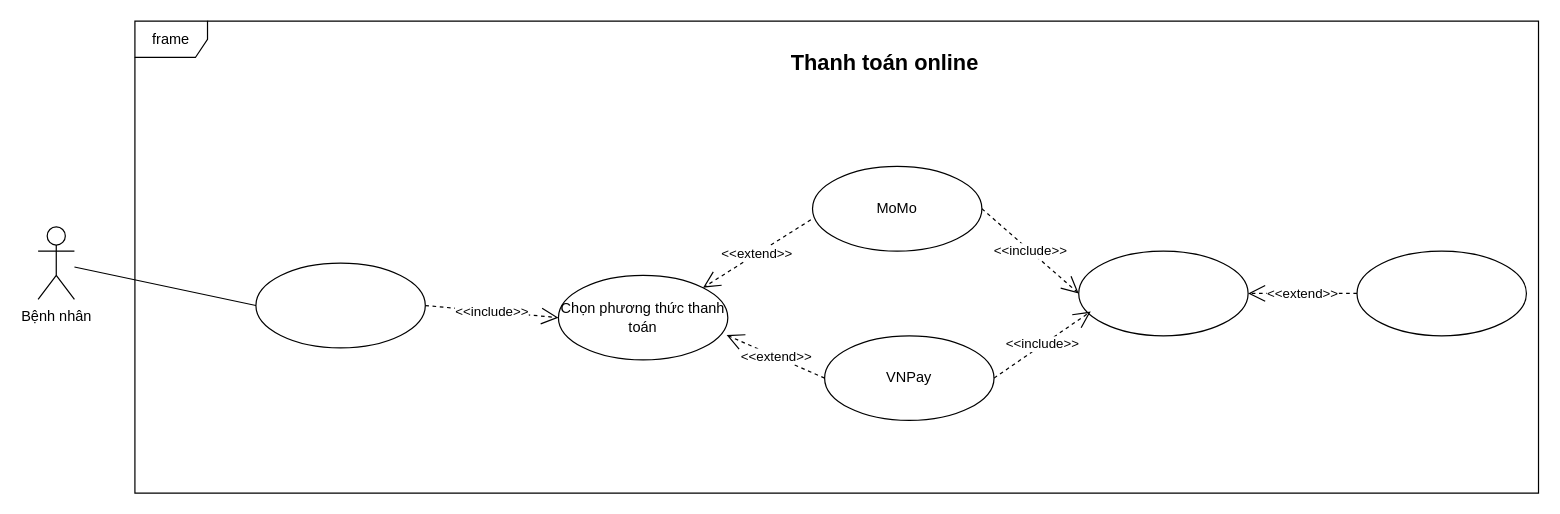
Some shapes in this 1560 by 514 pixel diagram are drawn without their labels. The shapes that lost their labels are listed below. From the top down, each one's centre as x and y in pixels, then its label:
At point (340, 305): "Chọn hóa đơn thanh toán".
At point (1163, 293): "Xác nhận thanh toán".
At point (1441, 293): "Cập nhật trạng thái hóa đơn".
